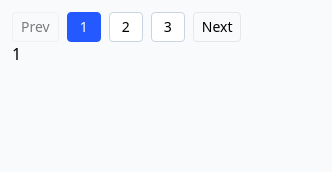
it: Pagination › updates visible current page when parent re-renders with new current
The width and height of the screenshot is (332, 172).
Expected: the text with test id "cur" reads "1", [12,43,21,65]
What coordinates should you click on to do the following:
click the button "2"
I would click on:
 (126, 27)
Its box is [109,12,143,42].
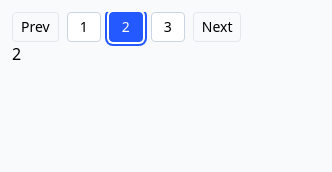
Now the text with test id "cur" reads "2", box [12,43,21,65]
